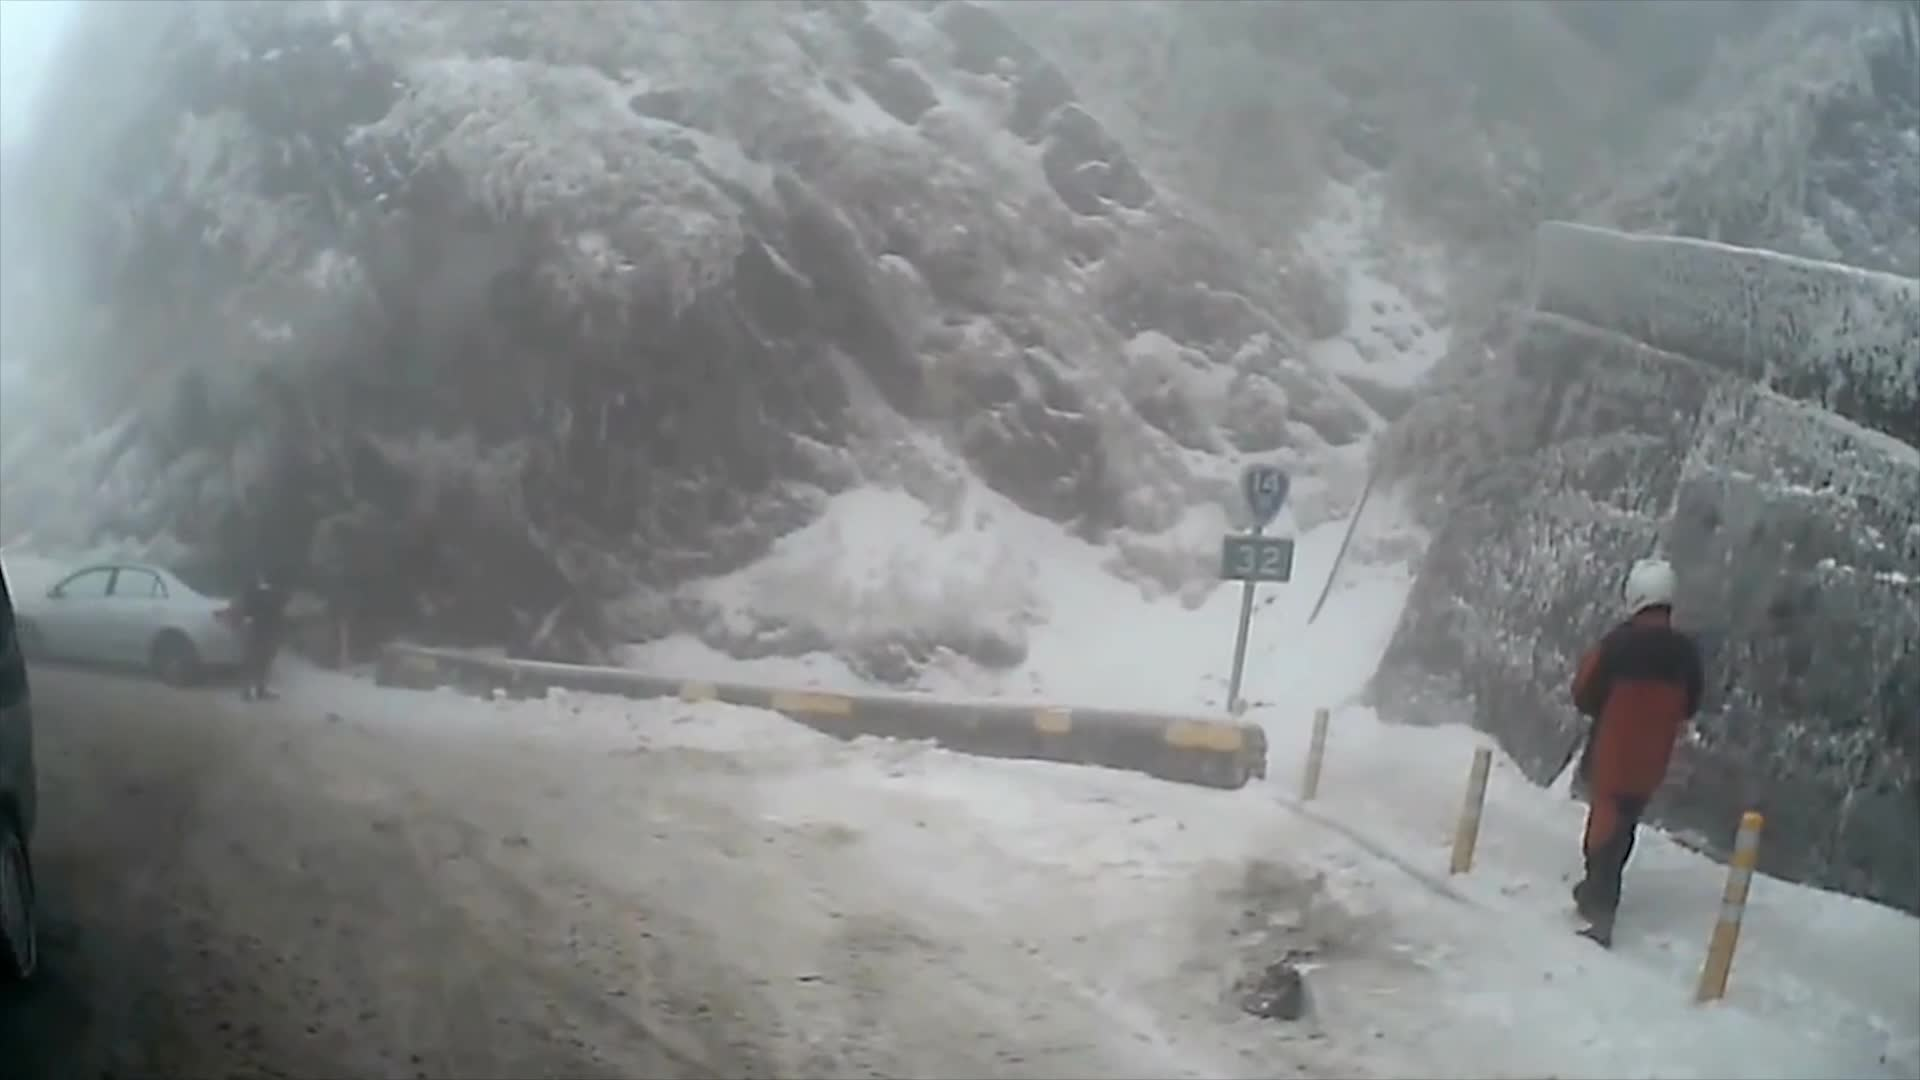pedestrian: (1569, 555, 1704, 950), (232, 566, 287, 697)
vehicle: (3, 557, 259, 684), (0, 561, 47, 1009)
